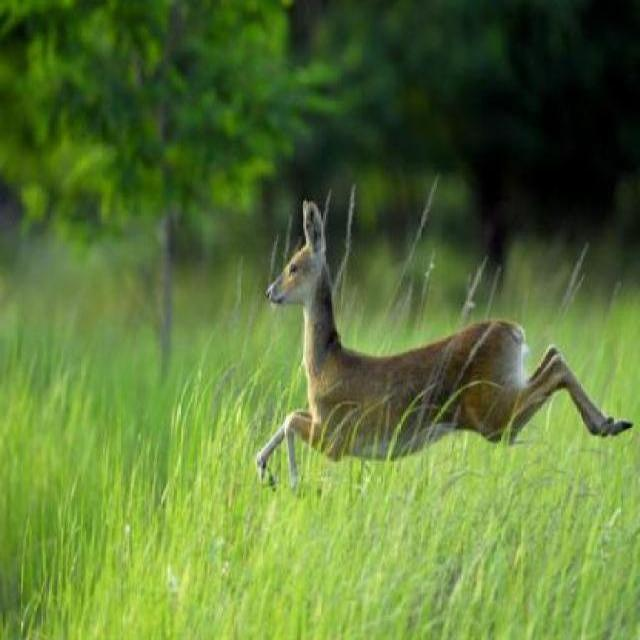deer: (252, 191, 637, 501)
